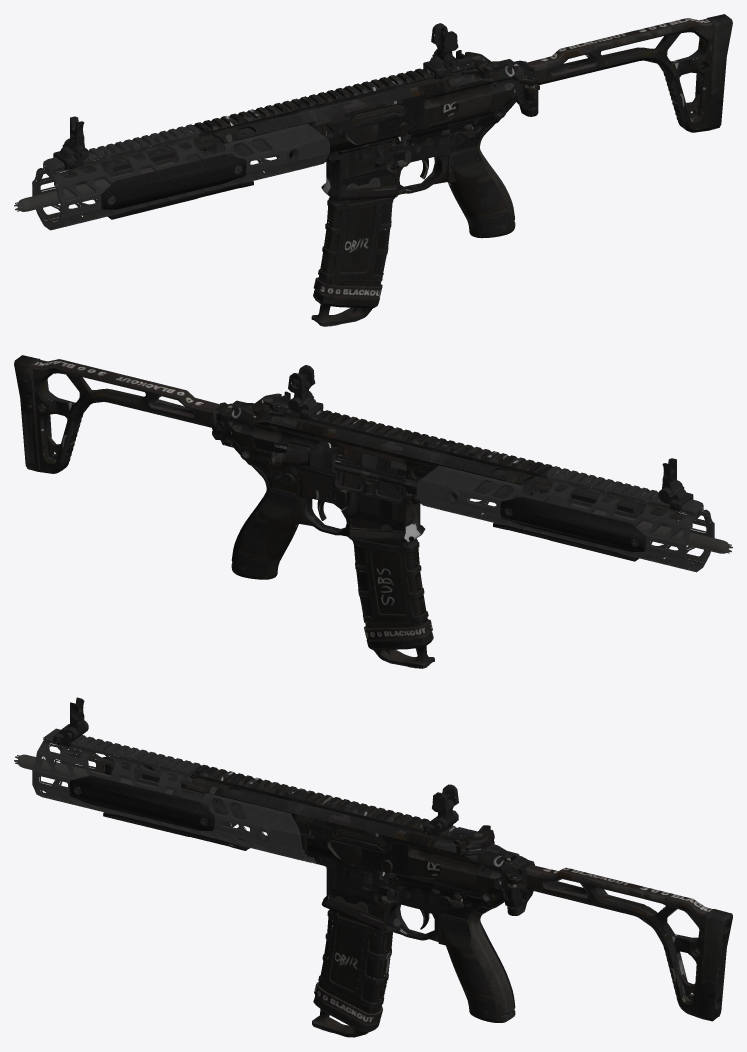
File: weapon_fcx.glb
The picture shows the model from 3 angles, top to bottom: view 1: azimuth 30°, elevation 25°; view 2: azimuth 150°, elevation 25°; view 3: azimuth 330°, elevation 25°; orthographic projection.
Parts seen in each view (by area): view 1: main_frame_fcx, rail_fcx, stock_fcx, magazine_fcx, grip_fcx, rear_sight_fcx, barrel_fcx, recoil_spring_guide_fcx, front_sight_fcx, reloader_fcx; view 2: main_frame_fcx, rail_fcx, stock_fcx, magazine_fcx, grip_fcx, rear_sight_fcx, barrel_fcx, recoil_spring_guide_fcx, front_sight_fcx, reloader_fcx; view 3: main_frame_fcx, rail_fcx, stock_fcx, magazine_fcx, grip_fcx, rear_sight_fcx, recoil_spring_guide_fcx, barrel_fcx, front_sight_fcx, reloader_fcx.
Boxes of the visible parts, bbox=[...] form: main_frame_fcx: bbox=[193, 55, 518, 200]; rail_fcx: bbox=[32, 123, 329, 230]; stock_fcx: bbox=[513, 14, 732, 132]; magazine_fcx: bbox=[311, 142, 394, 326]; grip_fcx: bbox=[439, 123, 515, 238]; rear_sight_fcx: bbox=[423, 23, 458, 79]; barrel_fcx: bbox=[14, 160, 189, 211]; recoil_spring_guide_fcx: bbox=[172, 128, 279, 163]; front_sight_fcx: bbox=[53, 116, 88, 169]; reloader_fcx: bbox=[456, 50, 493, 79]; main_frame_fcx: bbox=[227, 396, 553, 542]; rail_fcx: bbox=[416, 465, 714, 572]; stock_fcx: bbox=[14, 355, 232, 473]; magazine_fcx: bbox=[351, 529, 434, 668]; grip_fcx: bbox=[231, 466, 305, 579]; rear_sight_fcx: bbox=[288, 365, 323, 420]; barrel_fcx: bbox=[572, 503, 732, 553]; recoil_spring_guide_fcx: bbox=[467, 469, 575, 505]; front_sight_fcx: bbox=[658, 458, 693, 511]; reloader_fcx: bbox=[252, 391, 290, 420]; main_frame_fcx: bbox=[190, 764, 519, 941]; rail_fcx: bbox=[32, 728, 317, 864]; stock_fcx: bbox=[501, 855, 732, 1021]; magazine_fcx: bbox=[312, 860, 392, 1037]; grip_fcx: bbox=[438, 901, 515, 1022]; rear_sight_fcx: bbox=[423, 784, 458, 837]; recoil_spring_guide_fcx: bbox=[171, 778, 266, 832]; barrel_fcx: bbox=[14, 754, 185, 794]; front_sight_fcx: bbox=[53, 697, 88, 747]; reloader_fcx: bbox=[453, 825, 494, 855].
Bounding box in the file's own units: 90.86 × 32.56 × 8.47.
Materials: 6 (6 with a texture image).
